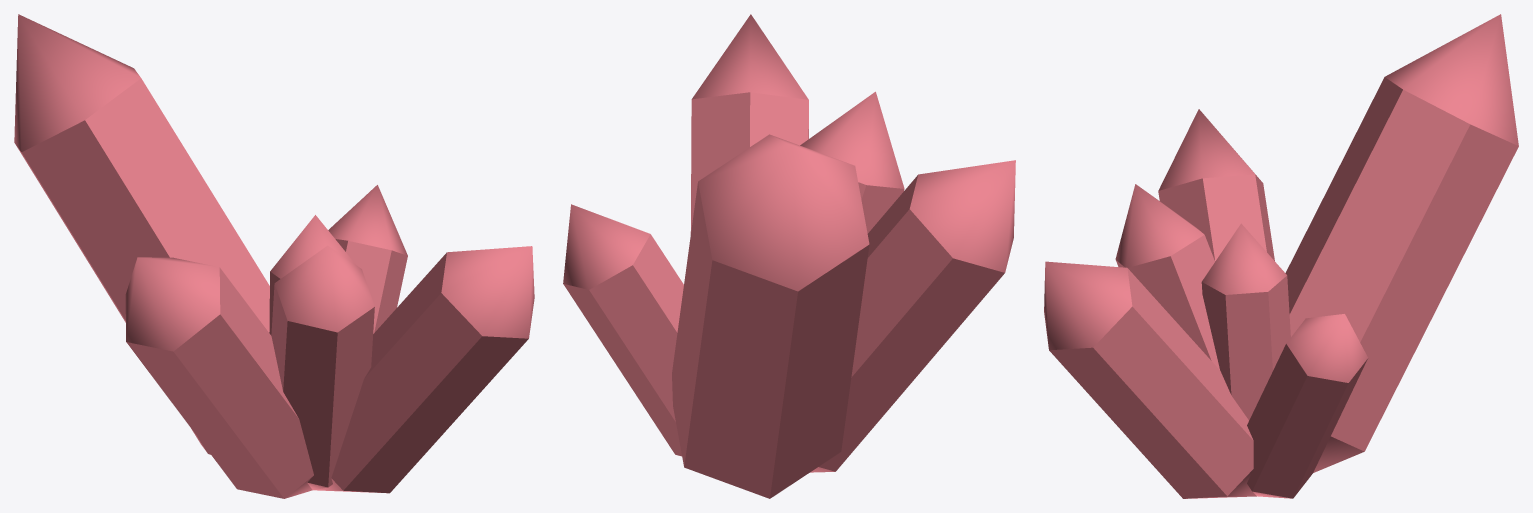
The model's file is Crystal2.fbx.
3 renders of one model, left to right at view 1: azimuth 30°, elevation 25°; view 2: azimuth 150°, elevation 25°; view 3: azimuth 270°, elevation 25°, orthographic. The views are drawn at different scales.
Parts seen in each view (by area): view 1: CrystalRed1; view 2: CrystalRed1; view 3: CrystalRed1.
Boxes of the visible parts, bbox=[...] form: CrystalRed1: bbox=[14, 14, 534, 498]; CrystalRed1: bbox=[563, 14, 1015, 498]; CrystalRed1: bbox=[1044, 14, 1518, 498].
Bounding box in the file's own units: 3.33 × 3.94 × 4.19.
